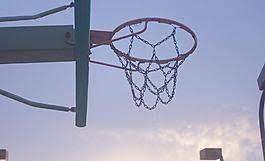rim: (112, 17, 198, 110)
